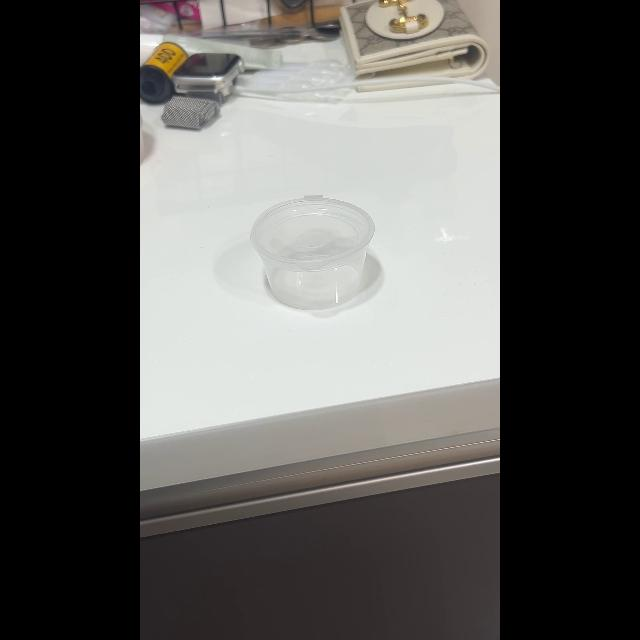clean: (252, 198, 382, 304)
